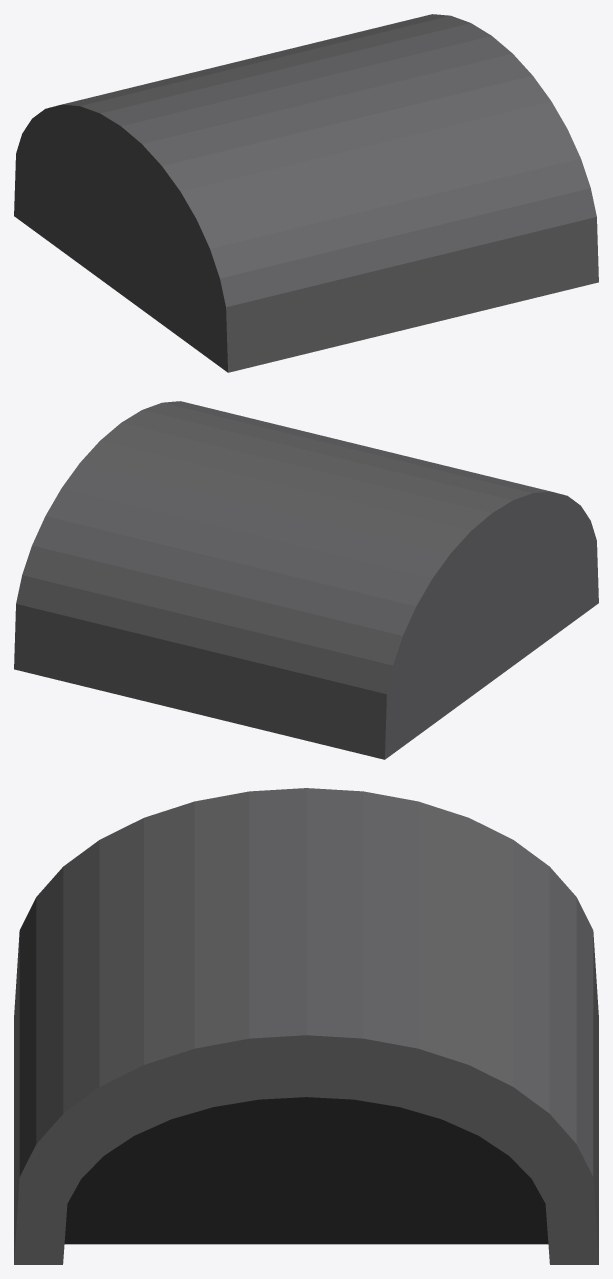
File: Tunnel.fbx
The picture shows the model from 3 angles, top to bottom: view 1: azimuth 30°, elevation 25°; view 2: azimuth 150°, elevation 25°; view 3: azimuth 270°, elevation 25°; orthographic projection. The views are drawn at different scales.
Parts seen in each view (by area): view 1: Cylinder; view 2: Cylinder; view 3: Cylinder.
Part boxes in pixels (x1,y1,x2,y2): Cylinder: (14,14,598,372); Cylinder: (14,401,598,759); Cylinder: (14,788,598,1264).
Bounding box in the file's own units: 6000 × 2600 × 6000.
